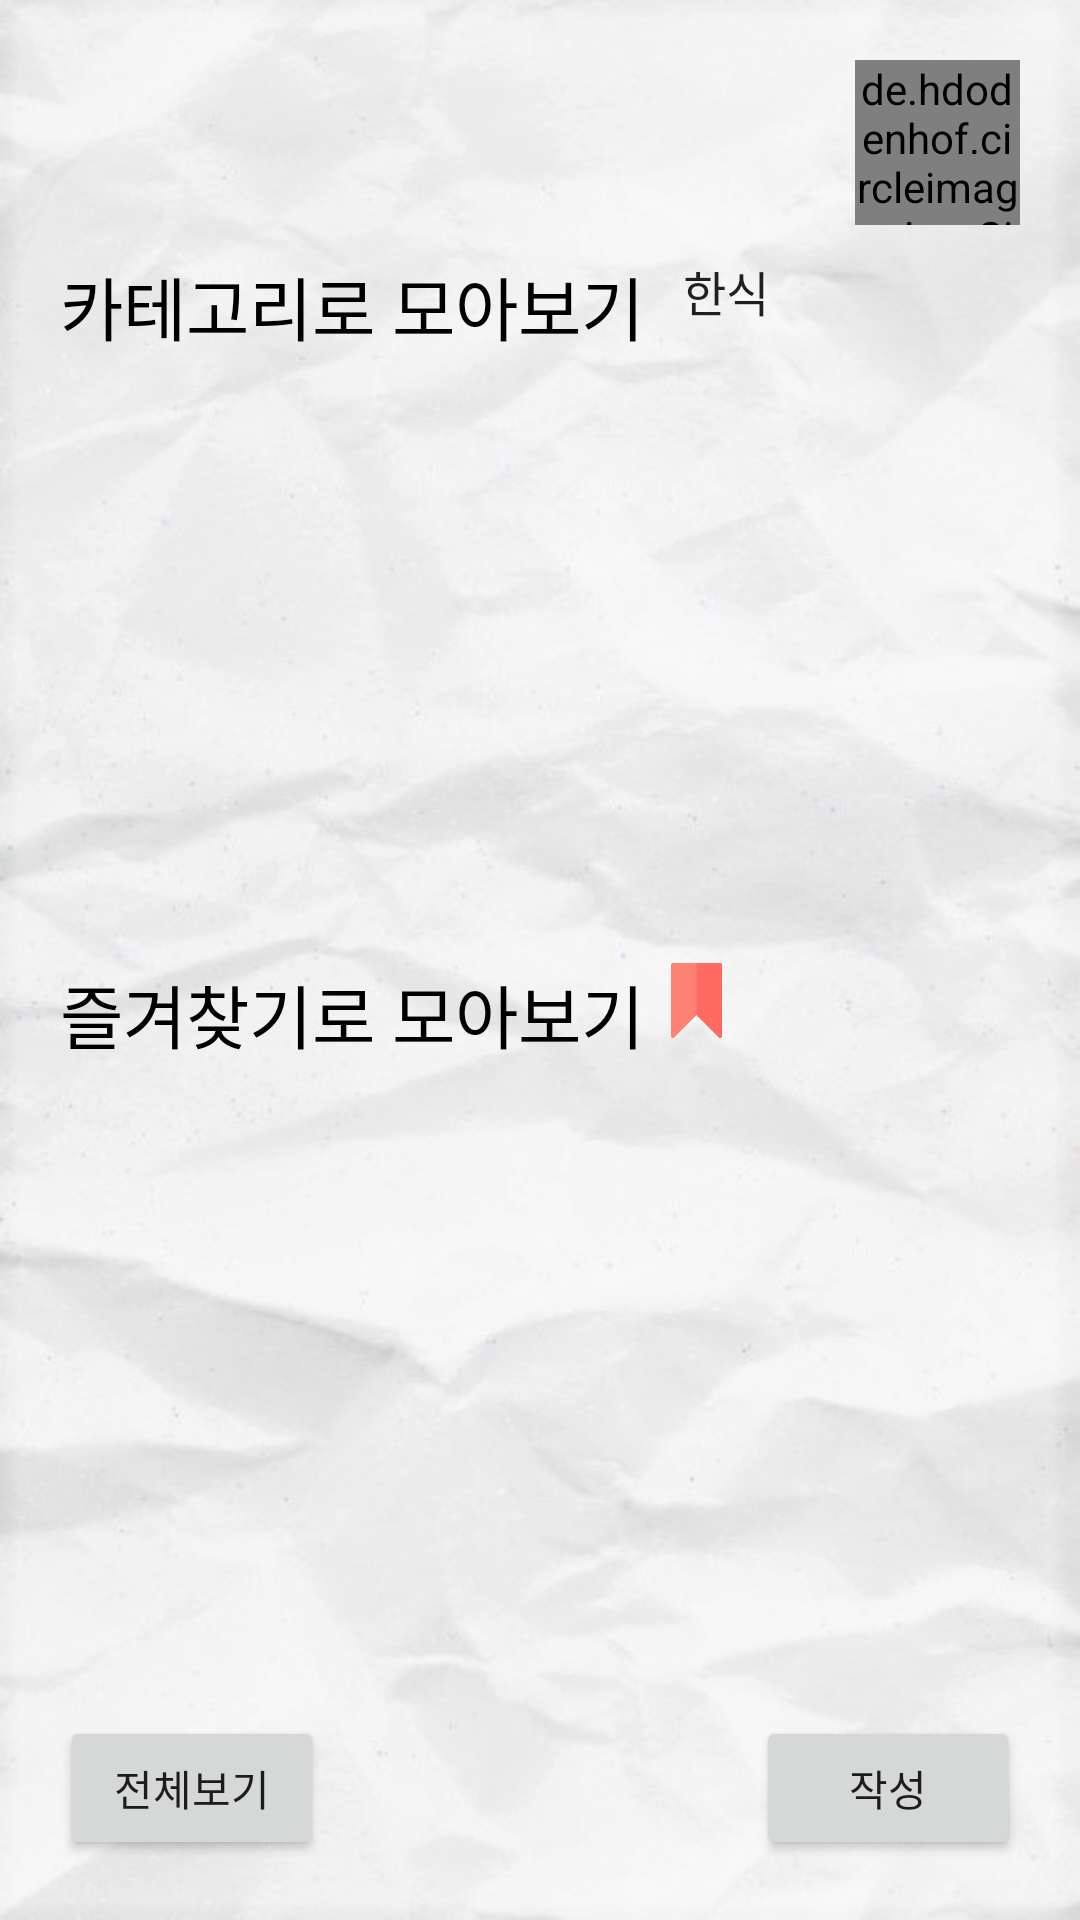

Icon bounding boxes for this 1080x1920 phone screenshot, format (x1, y1, x2, y2):
bookmark: (671, 963, 722, 1038)
